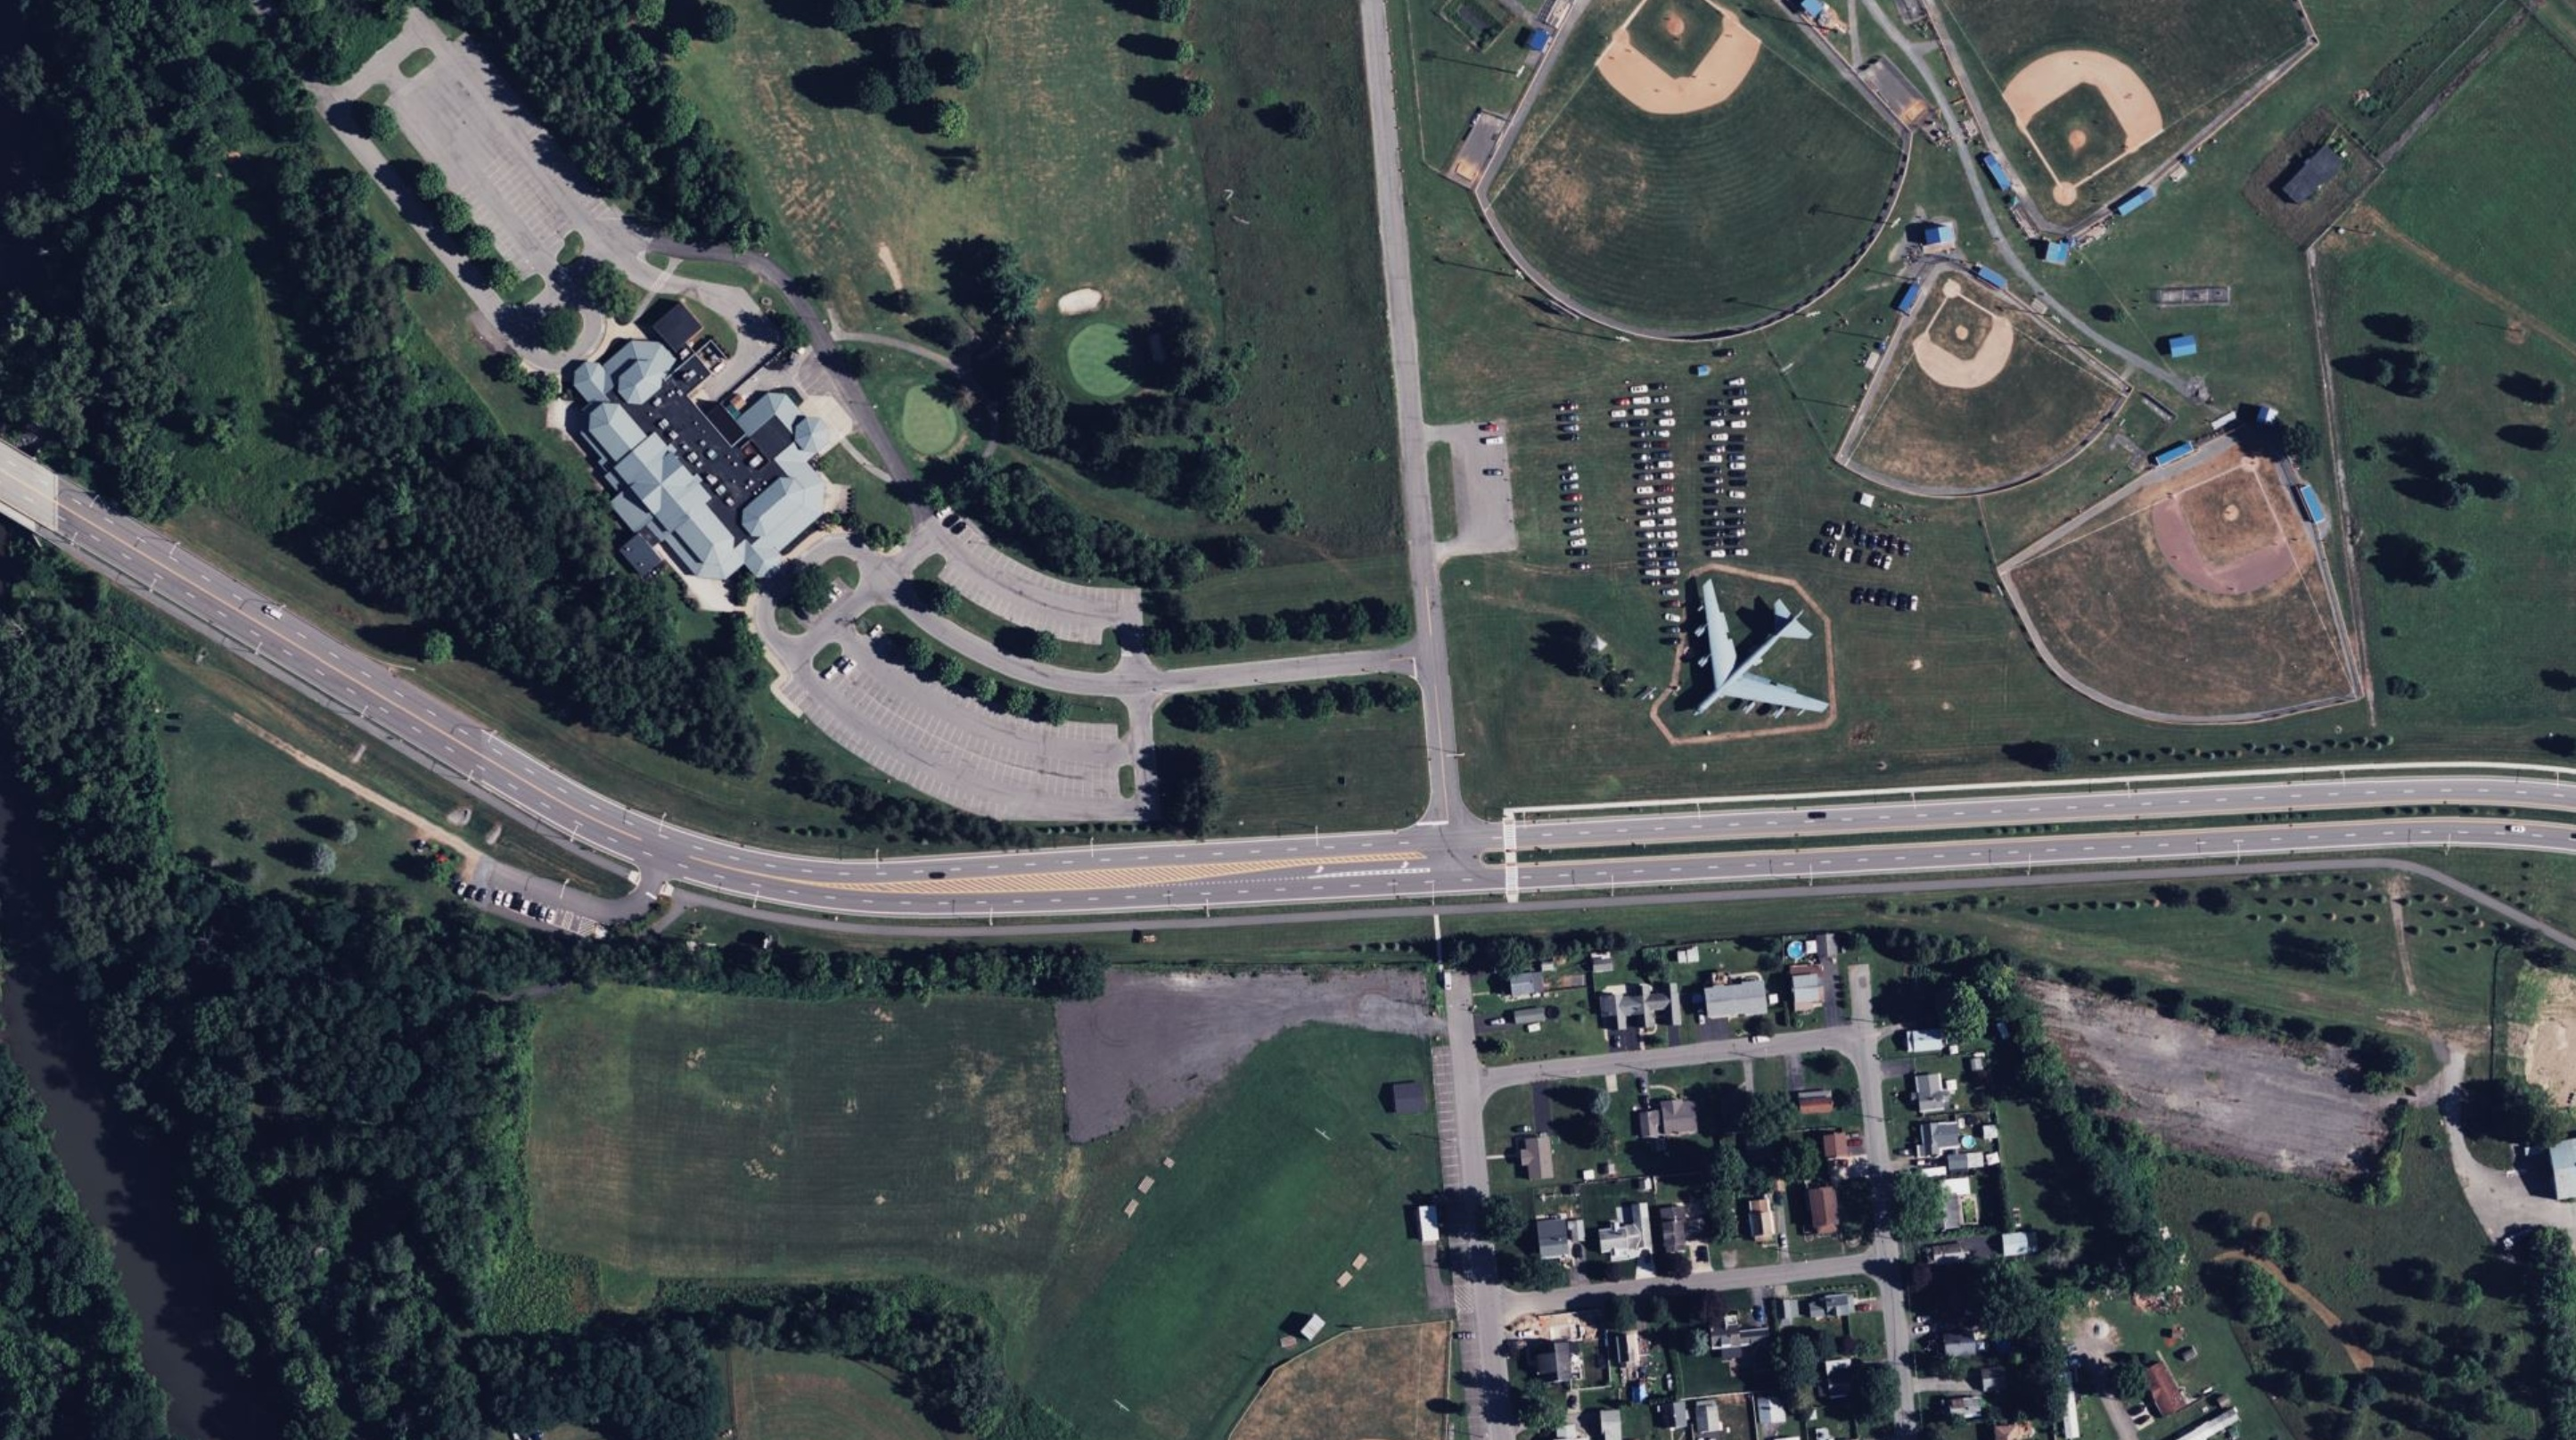B52: (1691, 578, 1829, 720)
